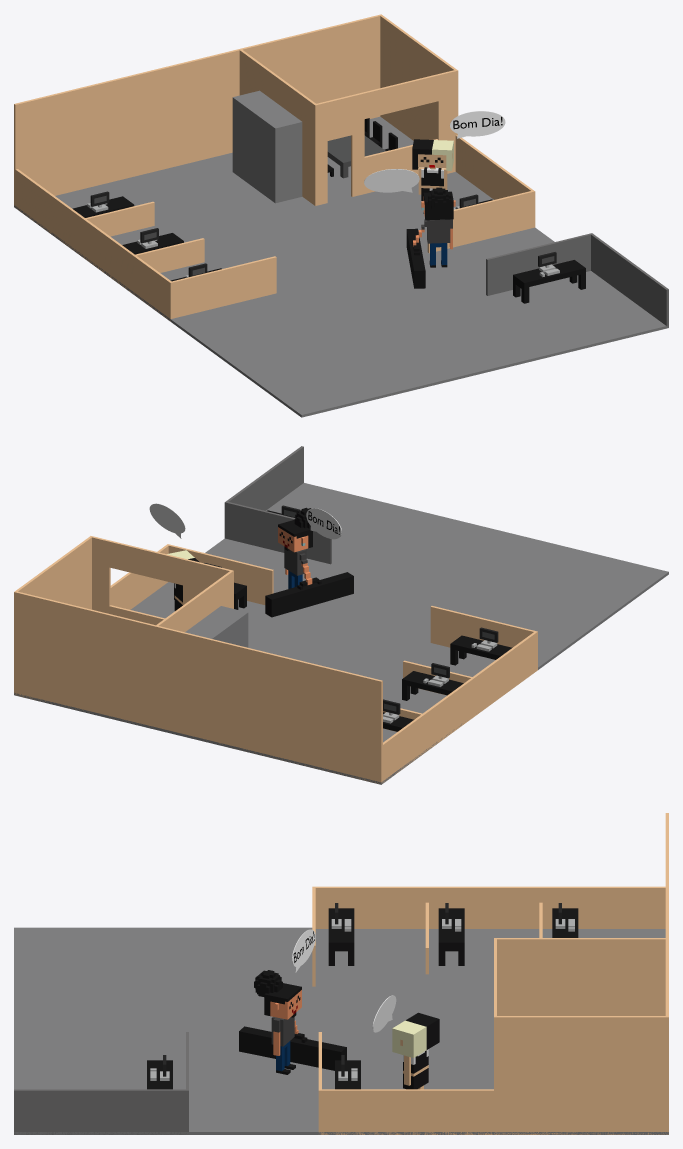
Rendered from presenteGi1.glb.
3 renders of one model, top to bottom at view 1: azimuth 30°, elevation 25°; view 2: azimuth 150°, elevation 25°; view 3: azimuth 270°, elevation 25°, orthographic. The views are drawn at different scales.
Visible parts, largest first — view 1: chao, outras_divisorias, sala_reuniao, divisoria_recepcao, divisoria_gi, Eu, Gi, Cylinder001, Cylinder; view 2: chao, outras_divisorias, sala_reuniao, divisoria_recepcao, Eu, divisoria_gi, Cylinder, Cylinder001; view 3: chao, sala_reuniao, outras_divisorias, divisoria_gi, divisoria_recepcao, Eu, Gi, Cylinder, Cylinder001.
Boxes of the visible parts, <box> form: chao: <box>14,116,668,417</box>; outras_divisorias: <box>14,49,302,321</box>; sala_reuniao: <box>238,14,458,205</box>; divisoria_recepcao: <box>486,233,668,327</box>; divisoria_gi: <box>427,135,535,253</box>; Eu: <box>406,187,455,288</box>; Gi: <box>412,139,453,213</box>; Cylinder001: <box>450,111,505,138</box>; Cylinder: <box>364,169,419,192</box>; chao: <box>14,483,668,784</box>; outras_divisorias: <box>157,606,537,783</box>; sala_reuniao: <box>14,536,233,727</box>; divisoria_recepcao: <box>224,446,331,564</box>; Eu: <box>265,507,353,617</box>; divisoria_gi: <box>110,544,273,609</box>; Cylinder: <box>306,508,341,539</box>; Cylinder001: <box>149,503,185,538</box>; chao: <box>14,927,668,1134</box>; sala_reuniao: <box>494,938,668,1134</box>; outras_divisorias: <box>312,813,668,986</box>; divisoria_gi: <box>318,1032,493,1134</box>; divisoria_recepcao: <box>14,1032,188,1134</box>; Eu: <box>239,970,346,1074</box>; Gi: <box>392,1012,439,1089</box>; Cylinder: <box>292,929,315,972</box>; Cylinder001: <box>372,995,396,1032</box>.
Size of the model in its own units: 14.9 by 4.04 by 20.2.
Materials: 11 (8 with a texture image).
